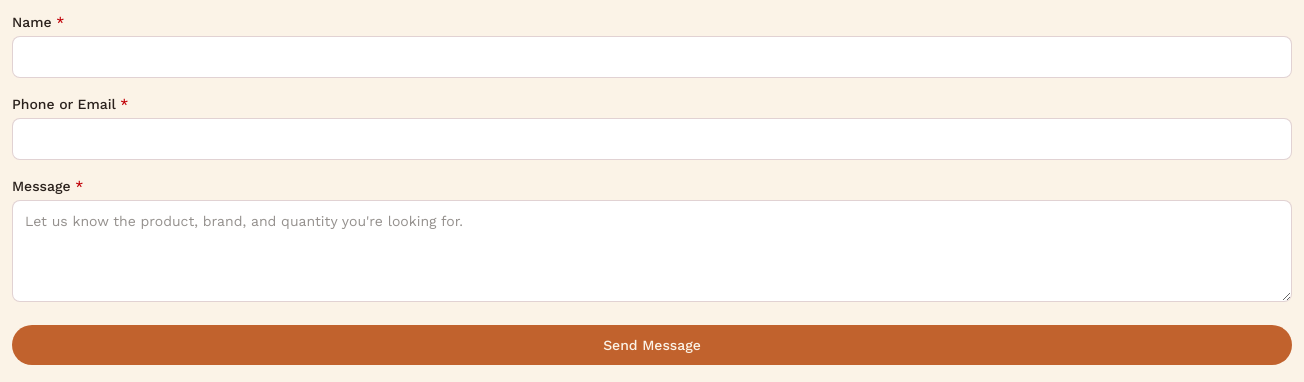
Test case: ContactForm — post-submit thank-you panel › shows the coming-soon fallback text instead of a WhatsApp link when no whatsappNumber is available
In the field labelled "Name *": (652, 57) [12,36,1292,78], type "Asha"
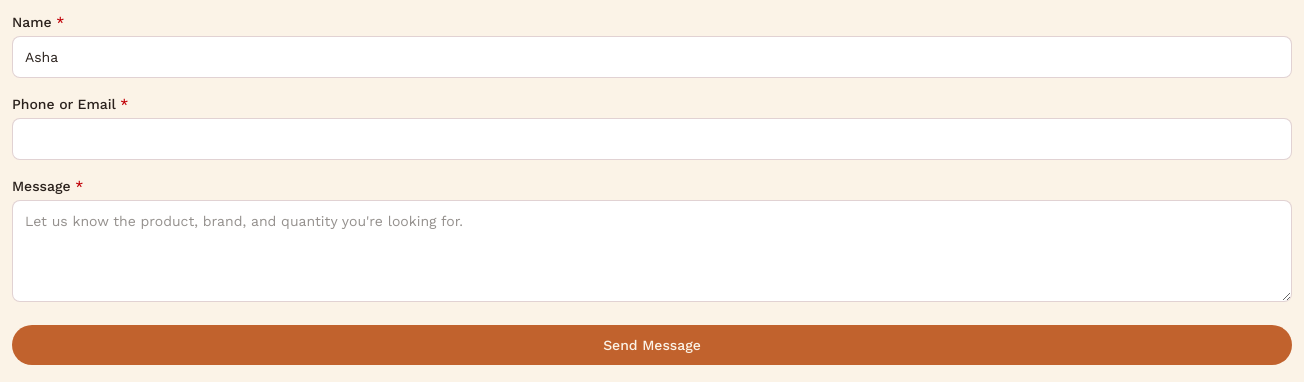
In the field labelled "Phone or Email *": (652, 139) [12,118,1292,160], type "asha@example.com"
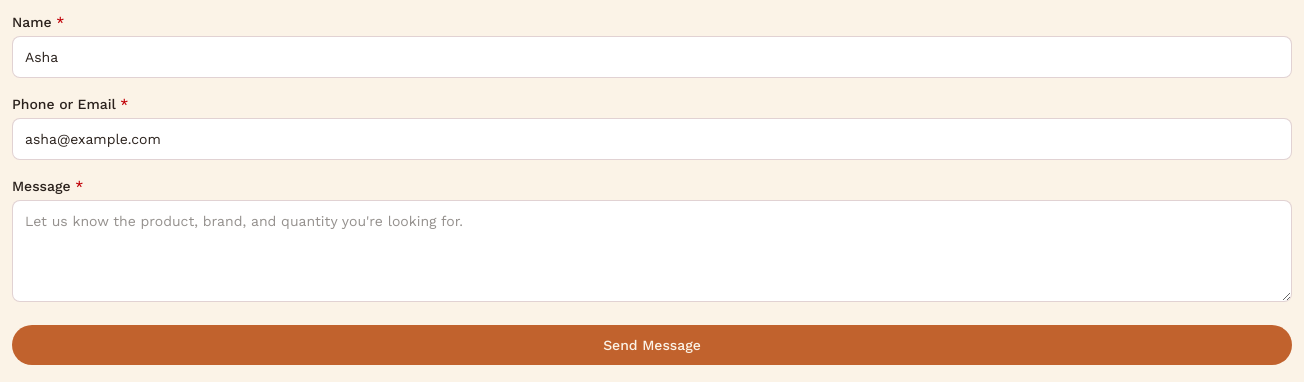
Replace the text in the text box labelled "Message *" with "Do you have sandalwood dhoop?": (652, 251) [12,200,1292,302]
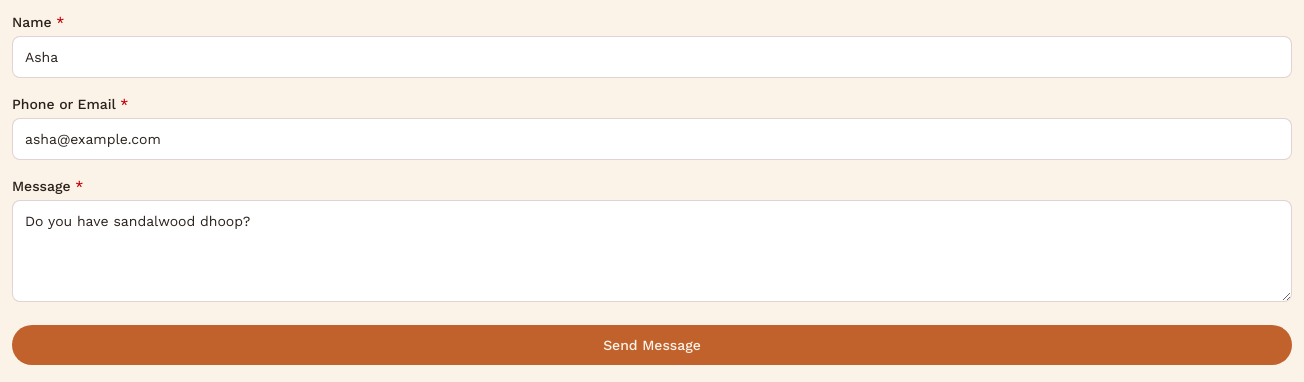
Click the button "Send Message": (652, 345) [12,325,1292,365]
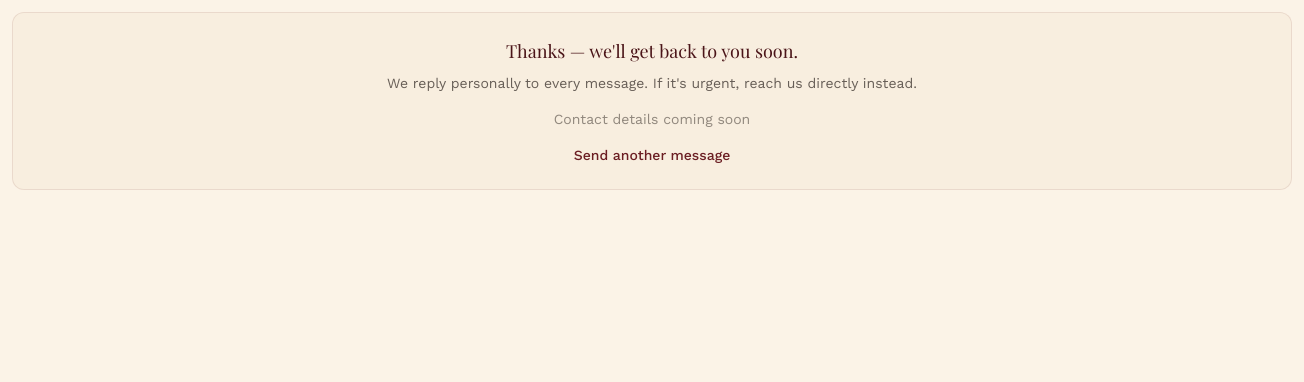
Now the text "Thanks — we'll get back to you soon." is shown, box [506,39,798,63]
Now the text "Contact details coming soon" is shown, box [554,111,750,127]
